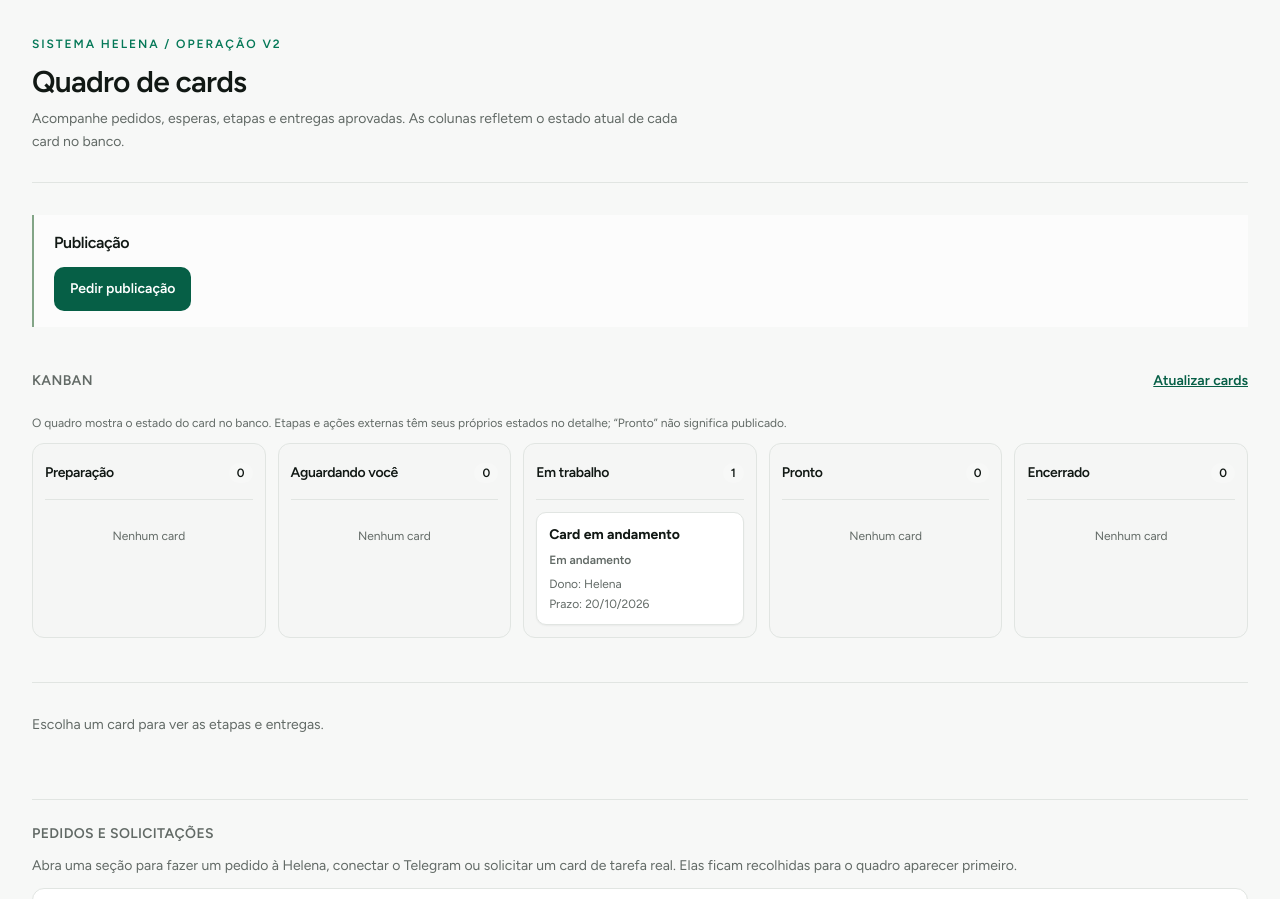
Scenario: CardV2Page (fundador): botões e links › todo controle do fundador (inclusive os 4 "Revisar decisão") declara alvo de toque
Click the button "Card em andamento": (640, 568) x1=536 y1=512 x2=744 y2=625
(page scrolled)
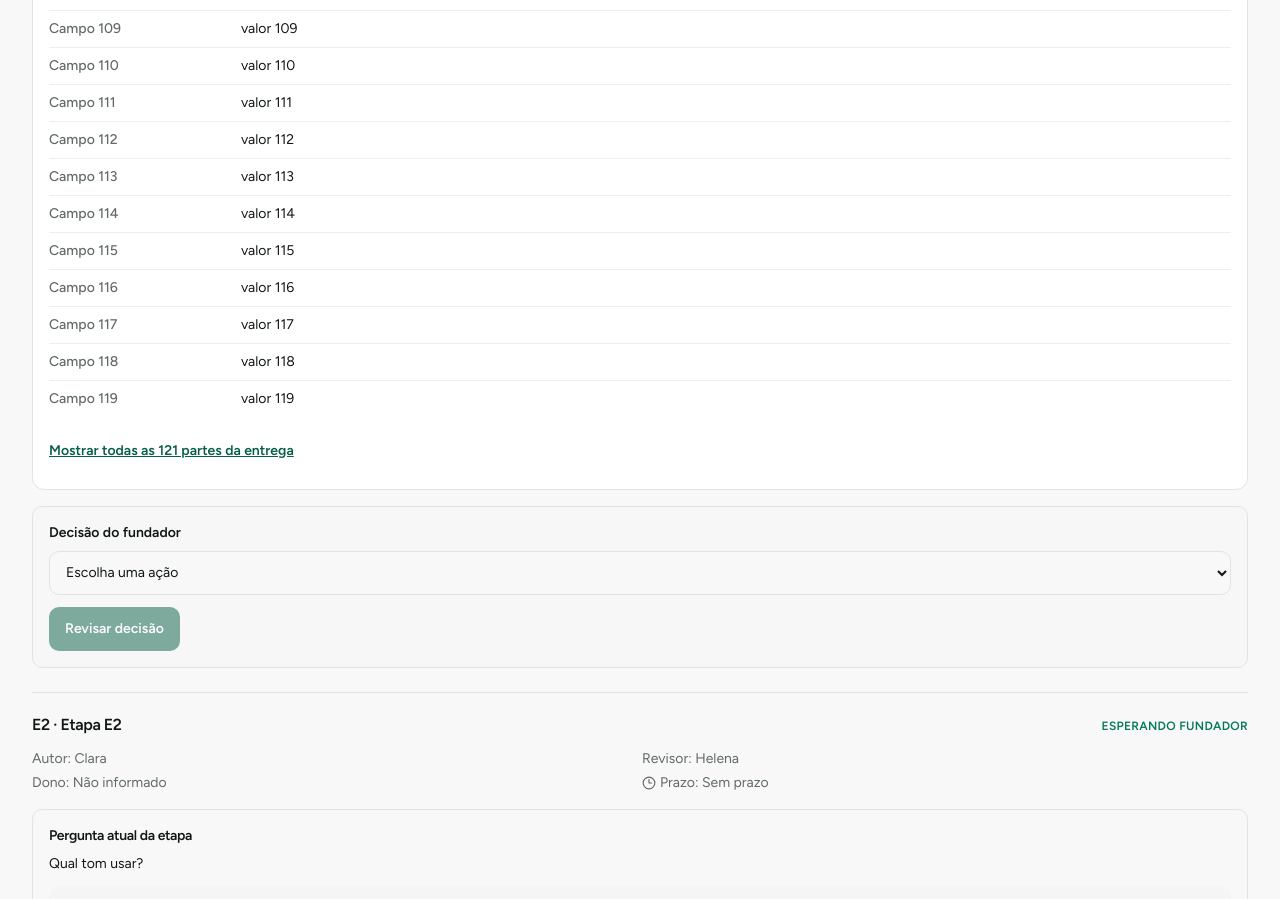
Check: the heading "Pergunta atual da etapa" is shown, box x1=49 y1=827 x2=192 y2=844
Check: the button "Mostrar todas as 121 partes da entrega" is shown, box x1=49 y1=429 x2=294 y2=473
Check: the number of buttons "Revisar decisão" is 4
